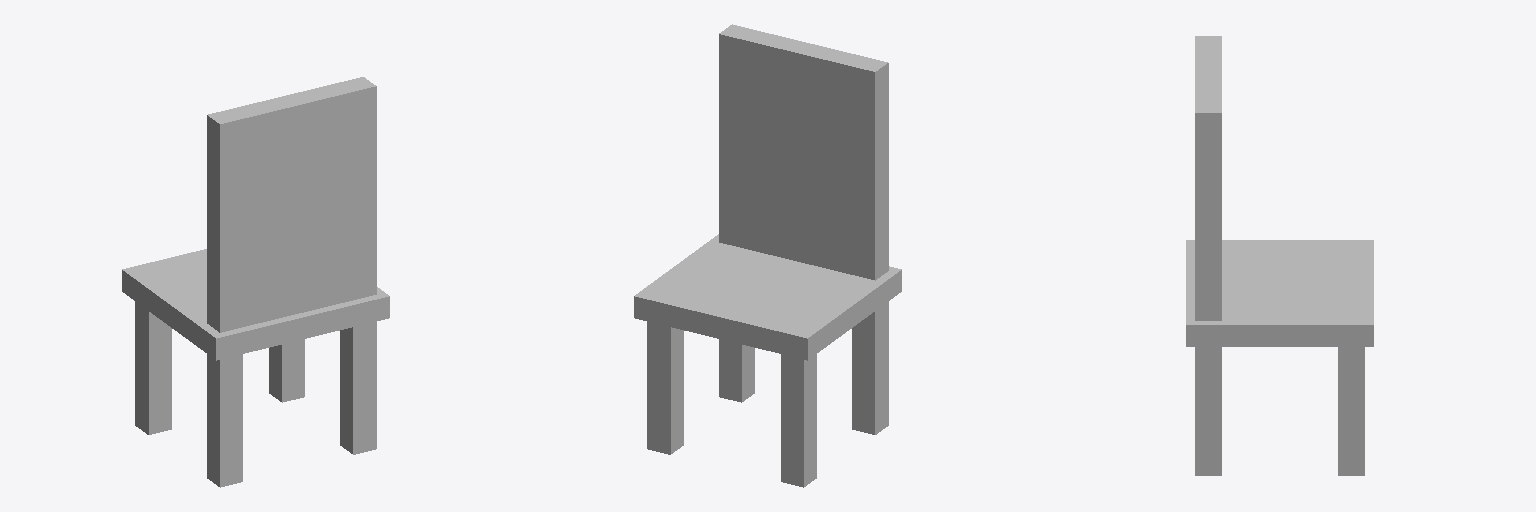
The model's file is chair.obj.
The picture shows the model from 3 angles: view 1: azimuth 30°, elevation 25°; view 2: azimuth 150°, elevation 25°; view 3: azimuth 270°, elevation 25°; orthographic projection.
Visible parts, largest first — view 1: Chair.001; view 2: Chair.001; view 3: Chair.001.
Part boxes in pixels (x1,y1,x2,y2): Chair.001: (122,77,389,487); Chair.001: (634,24,901,487); Chair.001: (1186,36,1373,475).
Size of the model in its own units: 2 by 3.99 by 1.88.